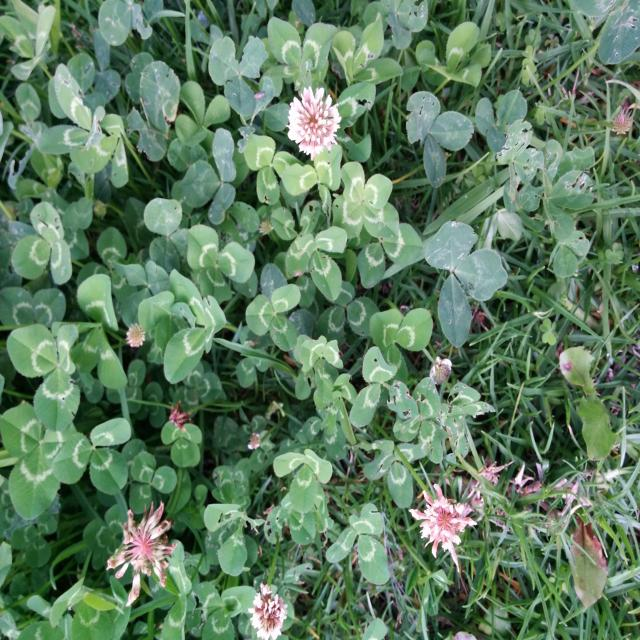Four Leaf Clover: (332, 161, 399, 239)
